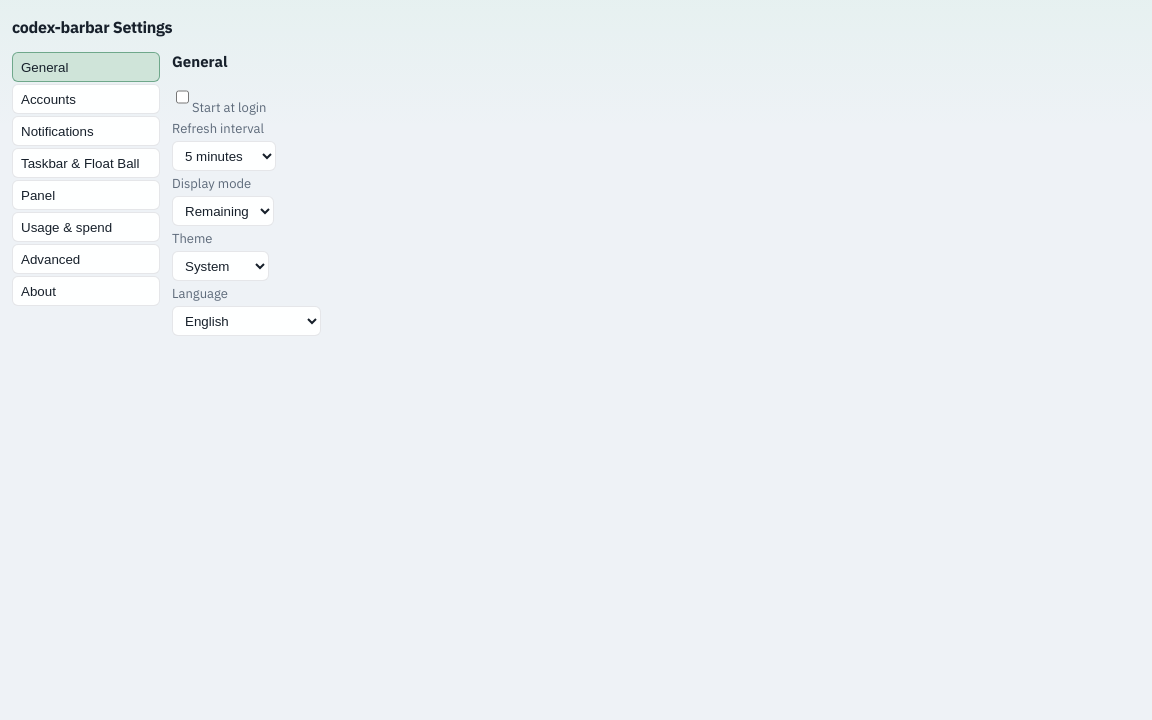
Test: Settings surface › renders the concrete Taskbar & Float Ball pane instead of a placeholder
The image size is (1152, 720).
Click the button "Taskbar & Float Ball".
click(86, 163)  # box top-left (12, 148), bottom-right (160, 178)
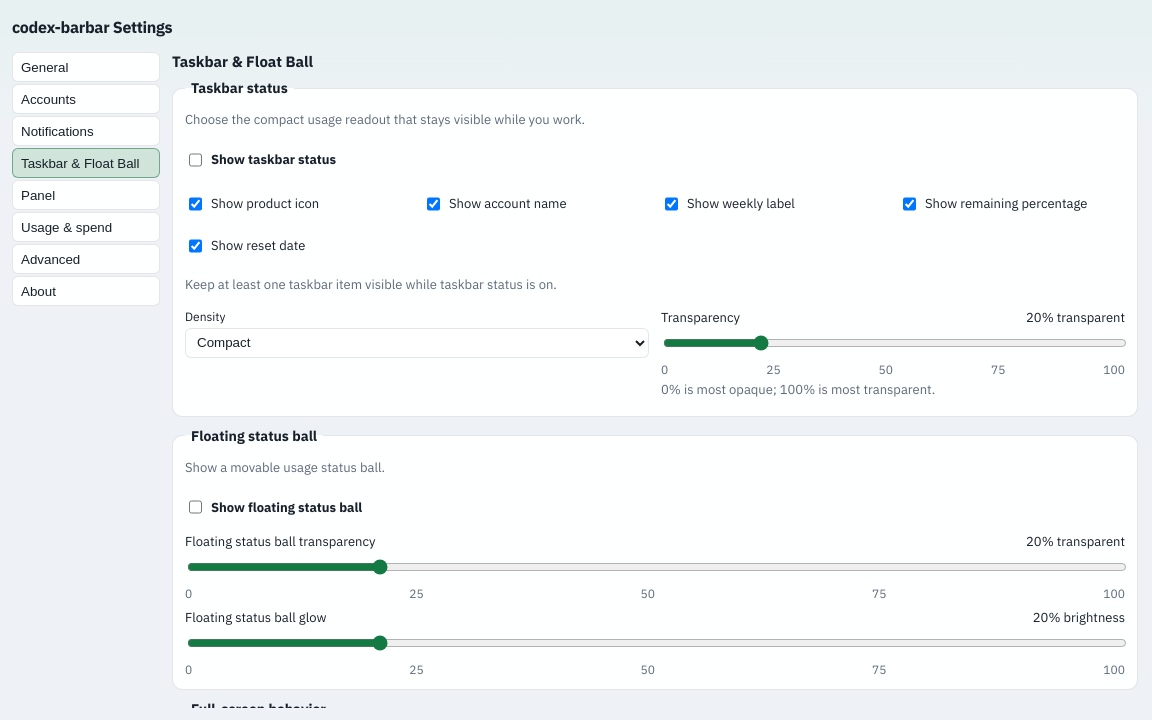
Now the heading "Taskbar & Float Ball" is shown, box top-left (172, 52), bottom-right (313, 71)
Now the element "Taskbar status" is shown, box top-left (172, 79), bottom-right (1138, 416)
